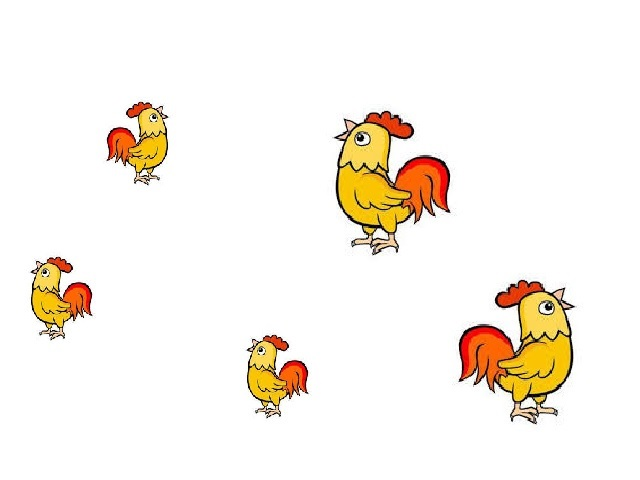crown: (366, 112, 413, 139), (496, 281, 542, 303), (48, 257, 75, 273), (265, 334, 290, 351), (123, 100, 150, 115)
eyes: (354, 132, 370, 147), (537, 301, 554, 314), (41, 268, 49, 276), (257, 347, 266, 354), (149, 114, 156, 122)
tail: (457, 323, 517, 392), (394, 154, 452, 224), (64, 282, 95, 323), (279, 357, 307, 402), (104, 125, 134, 165)
